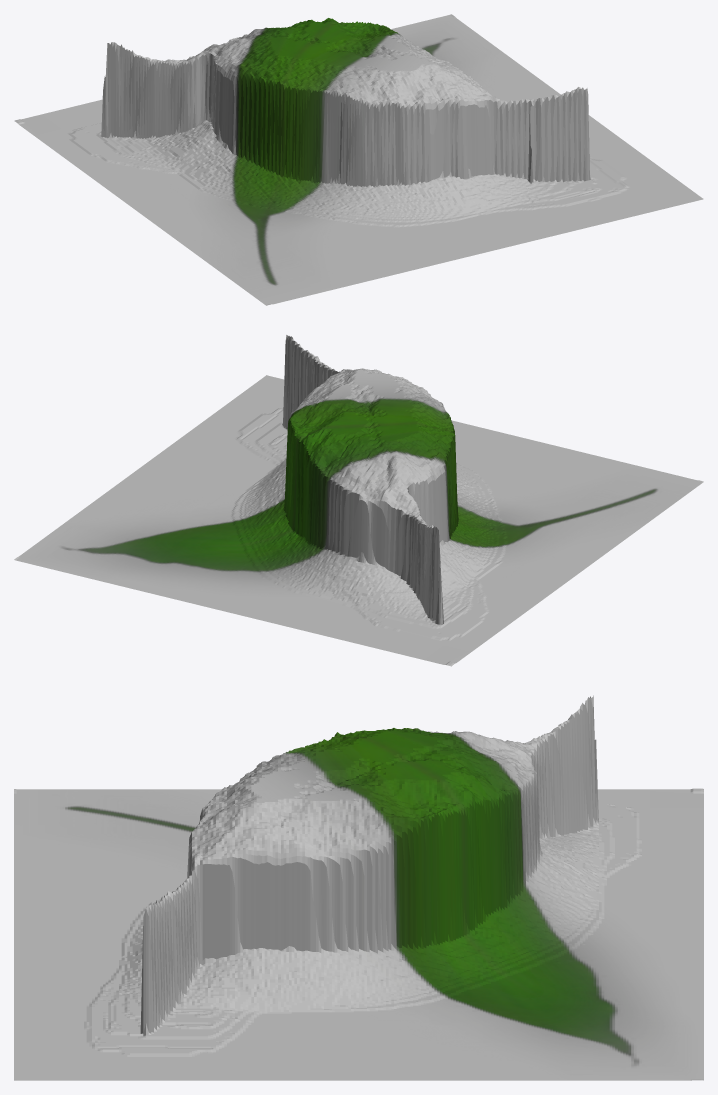
File: Hoja3.fbx
3 views of the same model, one above another, from view 1: azimuth 30°, elevation 25°; view 2: azimuth 150°, elevation 25°; view 3: azimuth 270°, elevation 25° (orthographic). The views are drawn at different scales.
Visible parts, largest first — view 1: Plane.002; view 2: Plane.002; view 3: Plane.002.
Part boxes in pixels (x1,y1,x2,y2): Plane.002: (14,14,703,305); Plane.002: (14,335,703,666); Plane.002: (14,695,703,1080).
Size of the model in its own units: 15.9 by 3.99 by 15.9.
